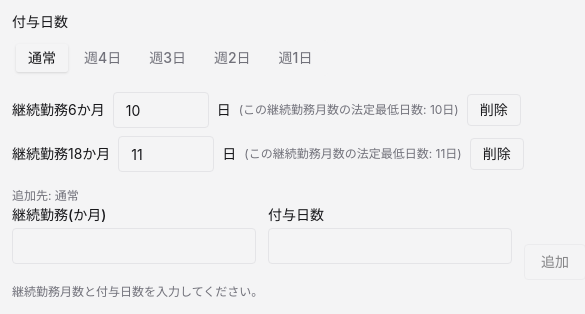
Test: PaidLeaveGrantStepsEditor › switches to a proportional tab and shows only that category rows
Click the tab "週4日": (103, 58) [72,44,133,72]
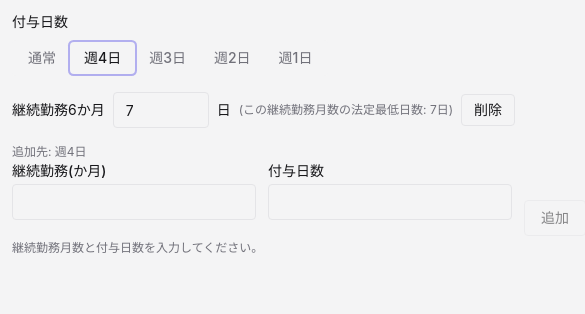
Now the number field named "週4日 継続勤務6か月の付与日数" holds "7", box [113,92,209,128]
Now the text "追加先: 週4日" is shown, box [12,144,87,159]
